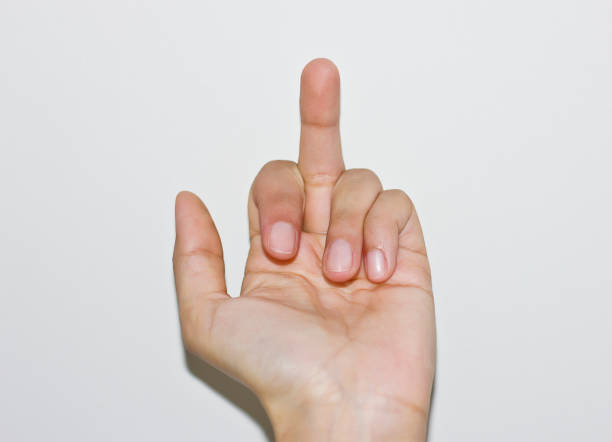insulting_gesture: (169, 47, 447, 442)
